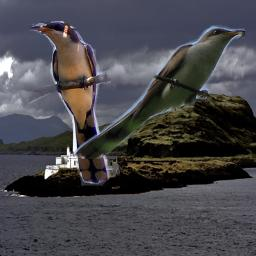Cuckoo: (74, 25, 245, 159), (29, 21, 111, 186)
